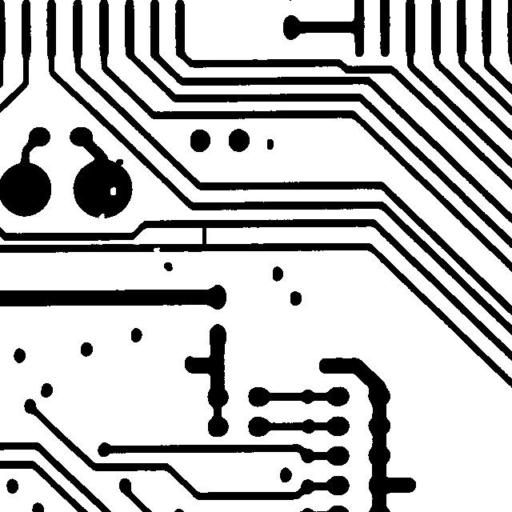copper: (156, 254, 180, 278), (259, 131, 281, 157)
mousebite: (146, 239, 167, 260), (90, 206, 112, 226)
pin-hole: (102, 179, 123, 202)
short: (194, 218, 214, 253)
spur: (108, 151, 130, 175)
